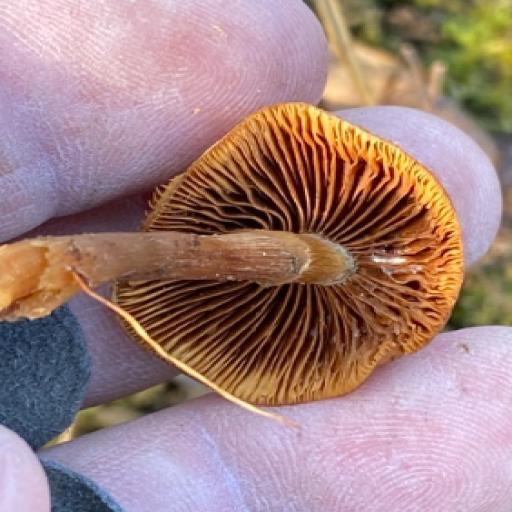Funeral Bell: (0, 96, 468, 410)
